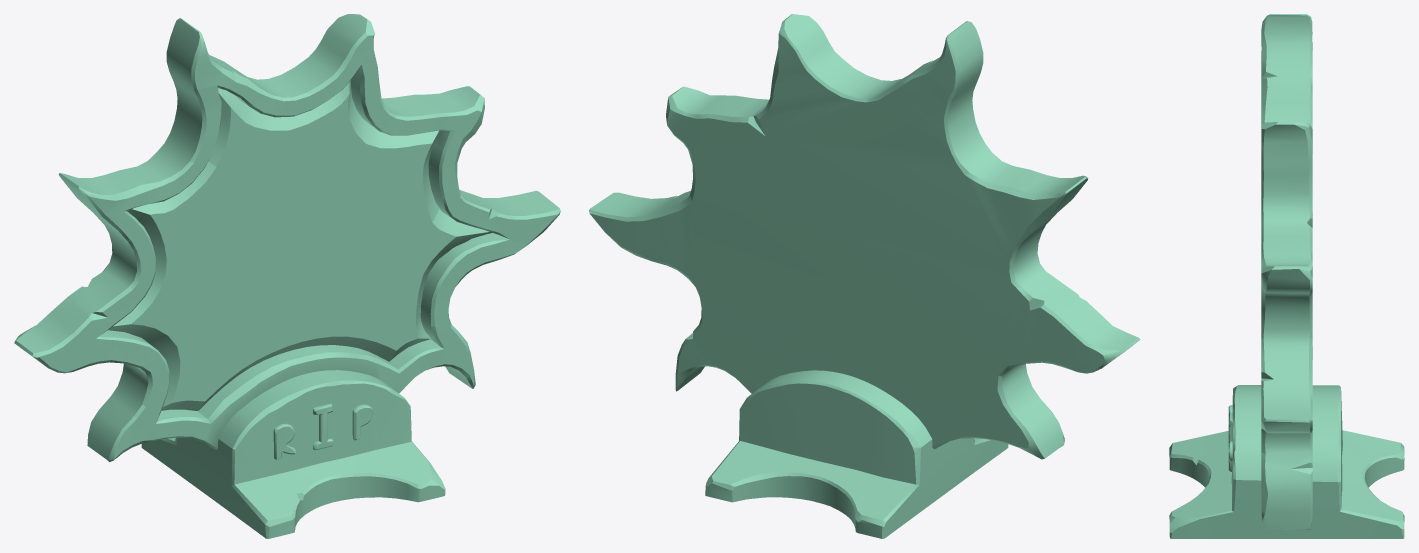
The model's file is SM_Gravestone_Sun_1.fbx.
3 renders of one model, left to right at view 1: azimuth 30°, elevation 25°; view 2: azimuth 150°, elevation 25°; view 3: azimuth 270°, elevation 25°, orthographic. The views are drawn at different scales.
Parts seen in each view (by area): view 1: SM_Gravestone_Sun_1; view 2: SM_Gravestone_Sun_1; view 3: SM_Gravestone_Sun_1.
Part boxes in pixels (bbox=[...]): SM_Gravestone_Sun_1: bbox=[14, 14, 560, 538]; SM_Gravestone_Sun_1: bbox=[589, 14, 1140, 538]; SM_Gravestone_Sun_1: bbox=[1169, 14, 1404, 538].
Bounding box in the file's own units: 199 × 168 × 81.94.
